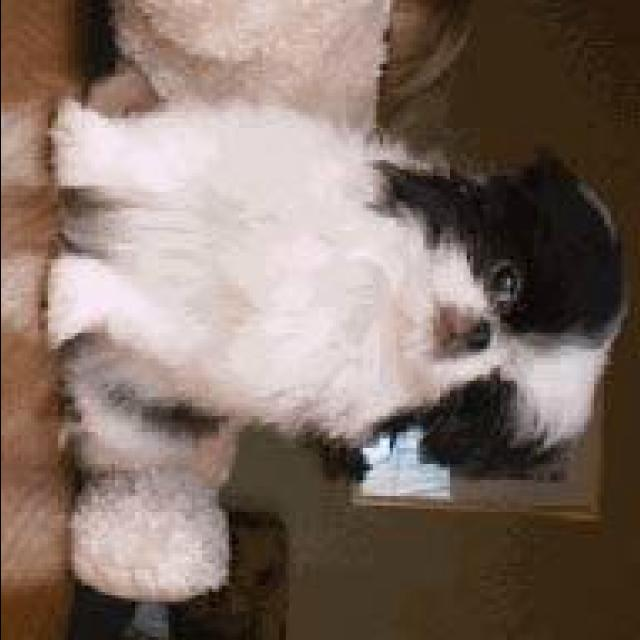husky: (37, 96, 630, 474)
